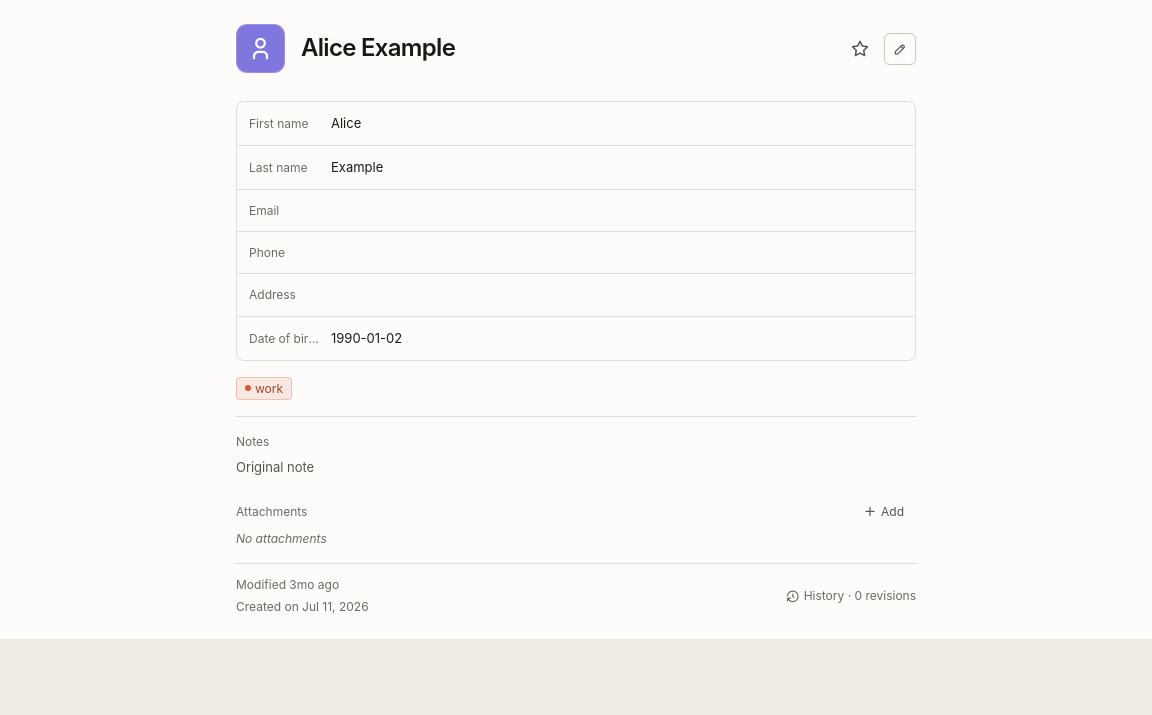
Test: identity entry workflow › displays and saves the date of birth
The image size is (1152, 715).
Expected: the text "1990-01-02" is shown, [331,330,402,346]
Step 1. Click the button named "Edit entry" → (900, 48), box [884,32,916,64]
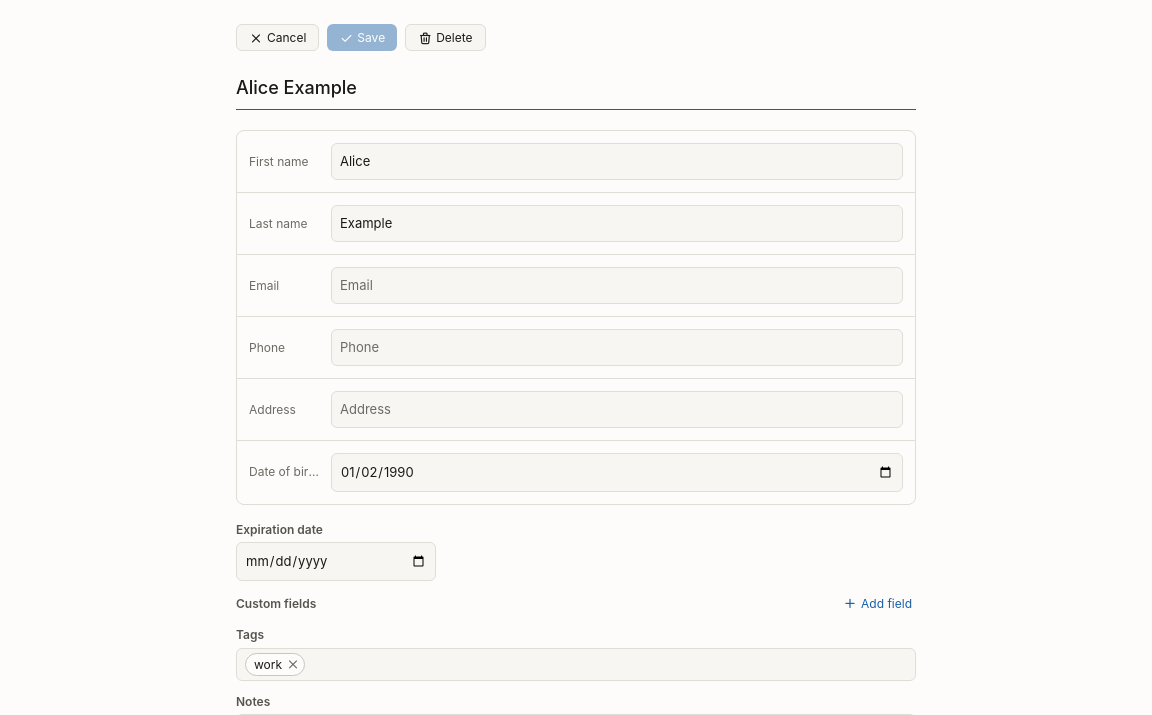
Expected: the date field named "Date of birth" holds "1990-01-02"
Step 2. Type "1991-03-04" into the date field named "Date of birth" → (617, 472), box [331,453,903,492]
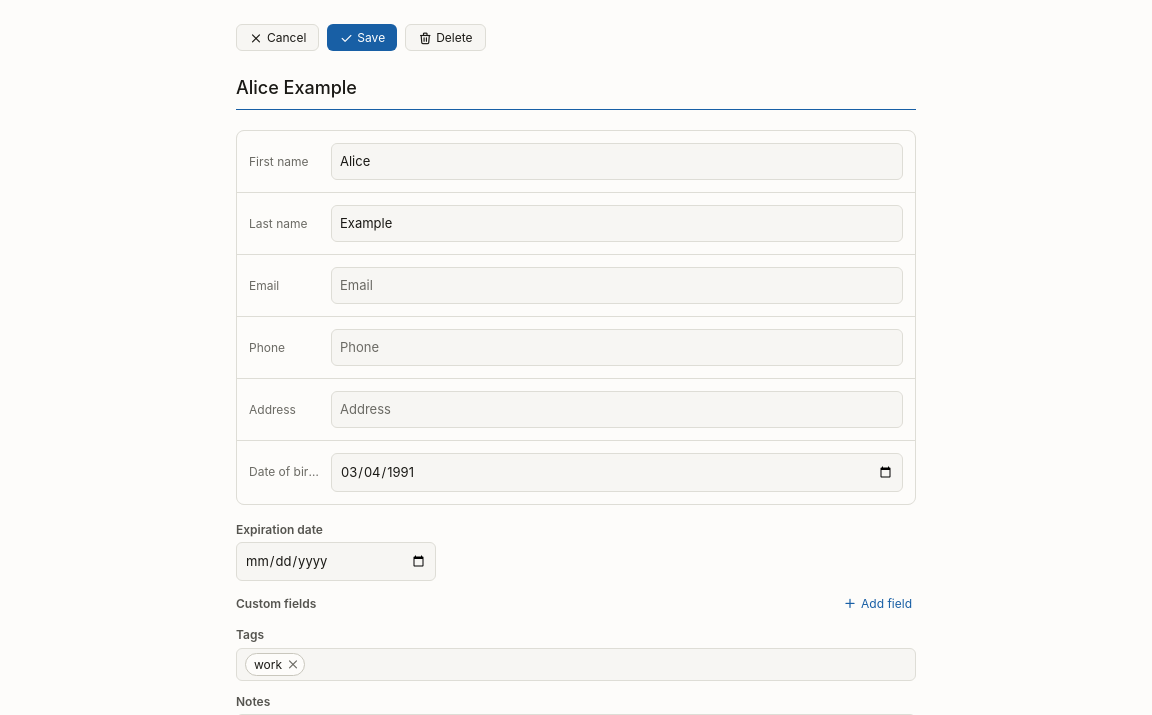
Step 3. Click the button "Save" → (362, 38), box [327,24,397,51]
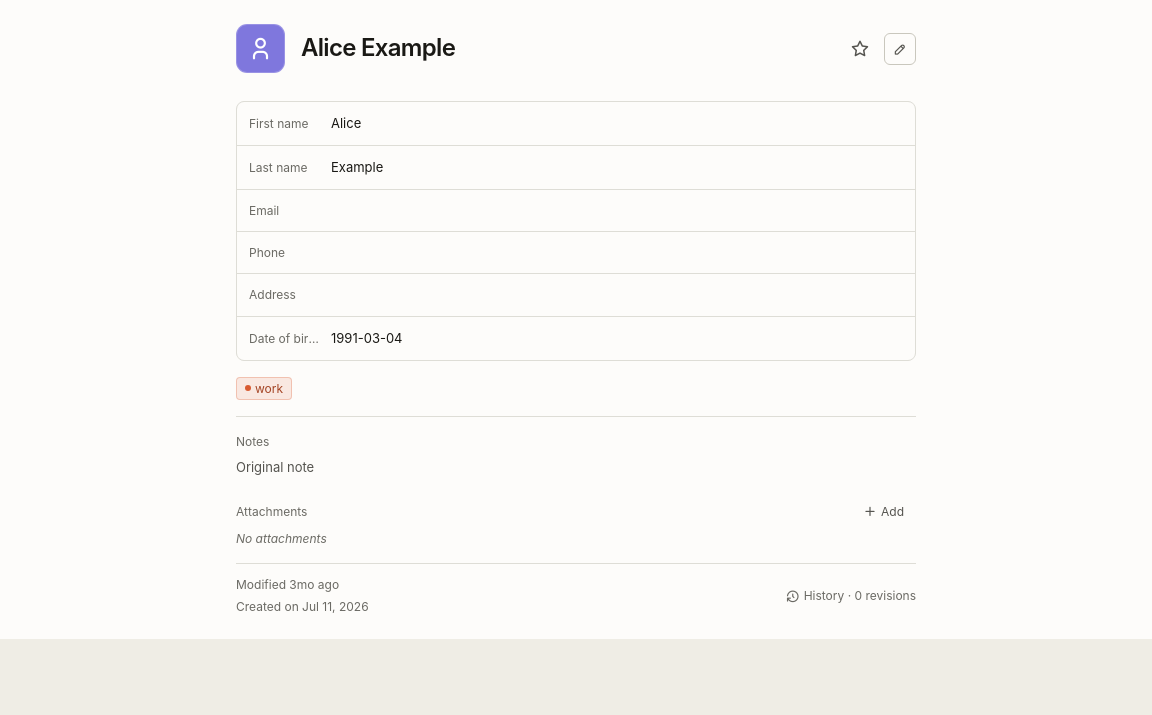
Expected: the text "1991-03-04" is shown, [331,330,402,346]
